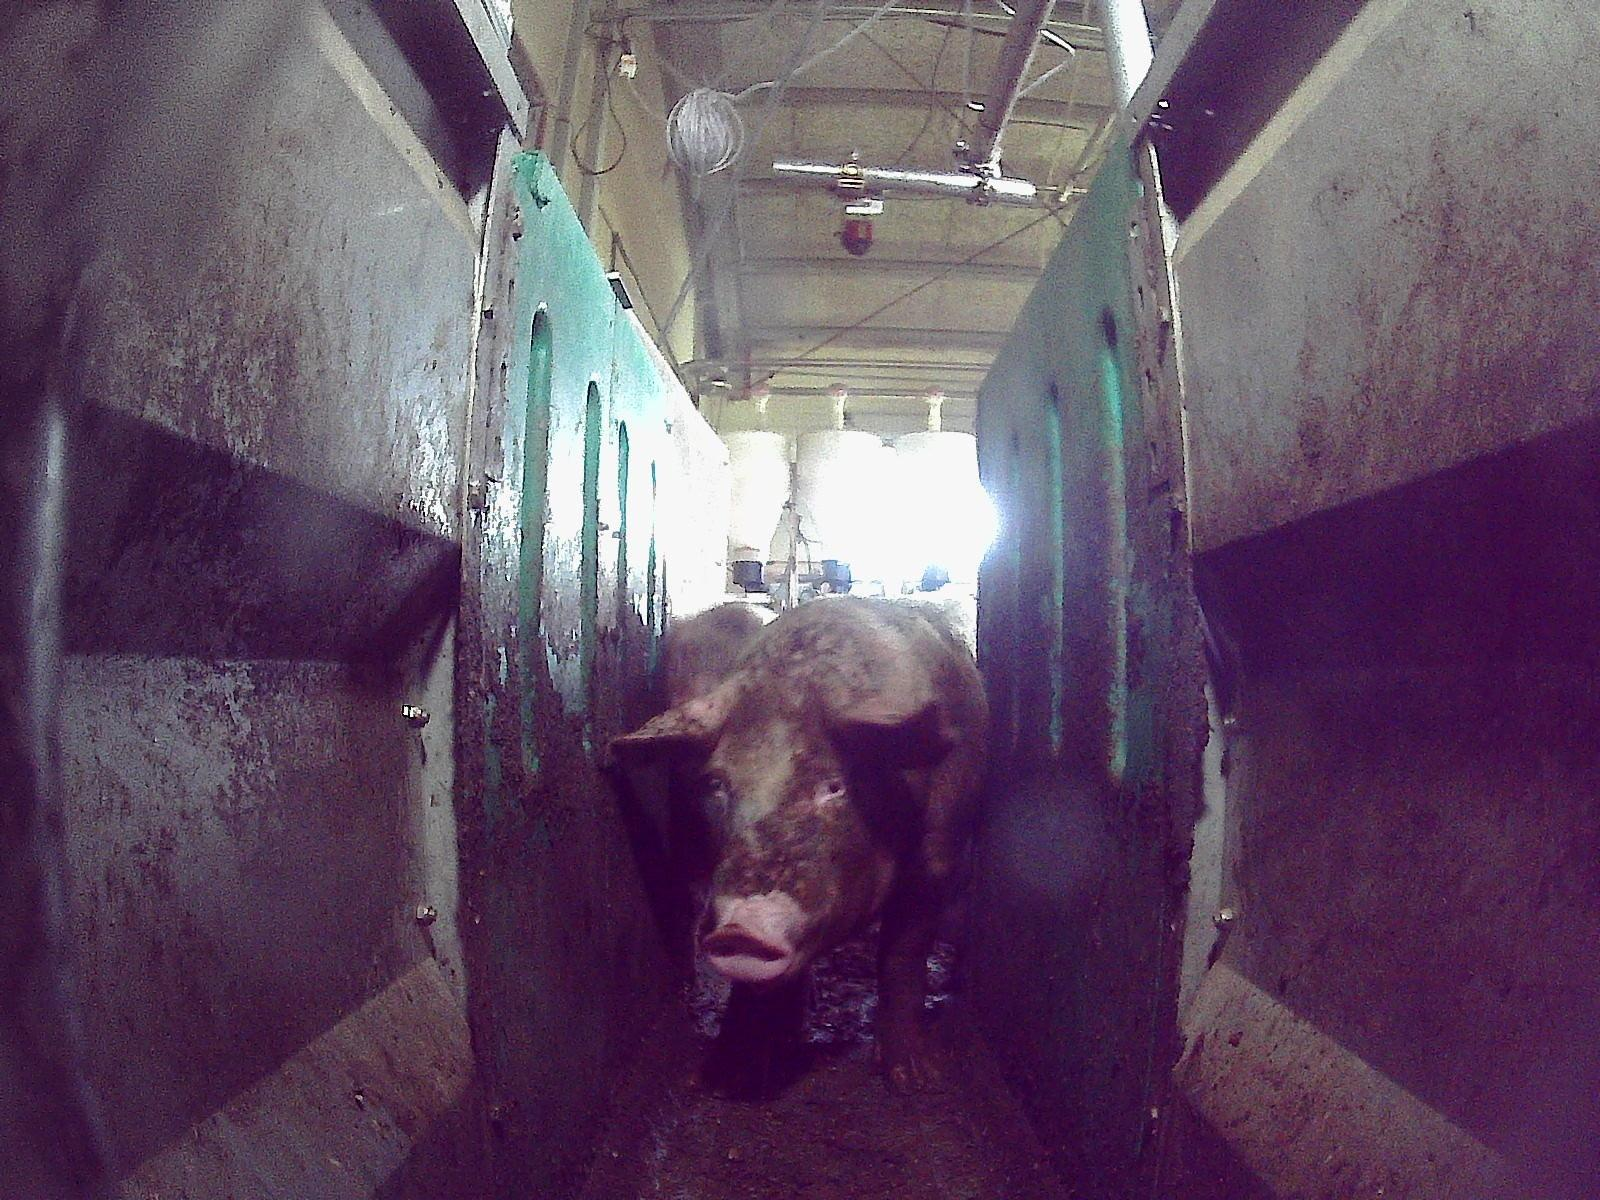Face: (689, 656, 897, 980)
